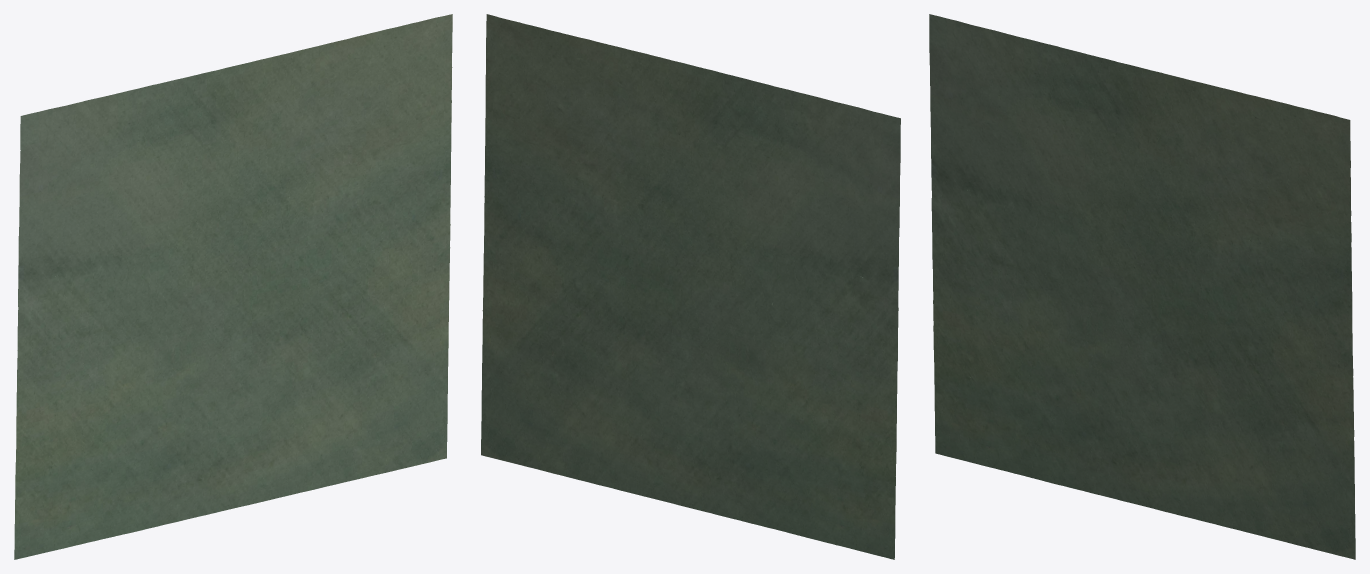
File: Tile_+016_+005.fbx
3 renders of one model, left to right at view 1: azimuth 30°, elevation 25°; view 2: azimuth 150°, elevation 25°; view 3: azimuth 330°, elevation 25°, orthographic. The views are drawn at different scales.
Parts seen in each view (by area): view 1: DefaultName; view 2: DefaultName; view 3: DefaultName.
Part boxes in pixels (x1,y1,x2,y2): DefaultName: [14, 14, 452, 559]; DefaultName: [481, 14, 900, 559]; DefaultName: [929, 14, 1355, 559].
Bounding box in the file's own units: 22.54 × 22.54 × 0.8869.
